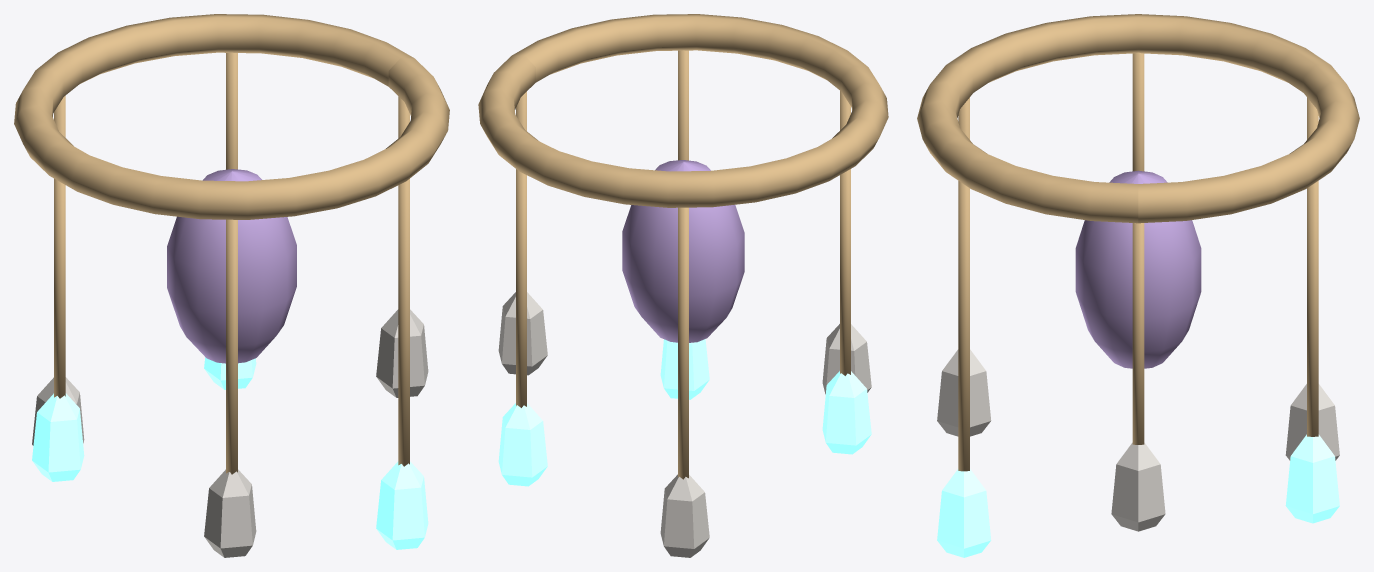
The model's file is orn_choral_ring_chimes.glb.
3 views of the same model, side by side, from view 1: azimuth 30°, elevation 25°; view 2: azimuth 150°, elevation 25°; view 3: azimuth 270°, elevation 25° (orthographic). The views are drawn at different scales.
Visible parts, largest first — view 1: ORN_choral_ring_chimes_crown, ORN_choral_ring_chimes_center_crystal, ORN_choral_ring_chimes_chime_5, ORN_choral_ring_chimes_chime_4, ORN_choral_ring_chimes_chime_3, ORN_choral_ring_chimes_hanger_5, ORN_choral_ring_chimes_hanger_4, ORN_choral_ring_chimes_chime_0, ORN_choral_ring_chimes_hanger_3, ORN_choral_ring_chimes_hanger_1, ORN_choral_ring_chimes_chime_1, ORN_choral_ring_chimes_chime_2; view 2: ORN_choral_ring_chimes_crown, ORN_choral_ring_chimes_center_crystal, ORN_choral_ring_chimes_chime_1, ORN_choral_ring_chimes_chime_3, ORN_choral_ring_chimes_chime_2, ORN_choral_ring_chimes_hanger_2, ORN_choral_ring_chimes_hanger_1, ORN_choral_ring_chimes_chime_0, ORN_choral_ring_chimes_hanger_3, ORN_choral_ring_chimes_chime_5, ORN_choral_ring_chimes_chime_4, ORN_choral_ring_chimes_hanger_5; view 3: ORN_choral_ring_chimes_crown, ORN_choral_ring_chimes_center_crystal, ORN_choral_ring_chimes_chime_0, ORN_choral_ring_chimes_chime_1, ORN_choral_ring_chimes_chime_5, ORN_choral_ring_chimes_hanger_5, ORN_choral_ring_chimes_hanger_1, ORN_choral_ring_chimes_hanger_0, ORN_choral_ring_chimes_chime_4, ORN_choral_ring_chimes_chime_2, ORN_choral_ring_chimes_hanger_3.
Boxes of the visible parts, <box> form: ORN_choral_ring_chimes_crown: <box>14,14,449,219</box>; ORN_choral_ring_chimes_center_crystal: <box>167,169,296,363</box>; ORN_choral_ring_chimes_chime_5: <box>376,461,428,549</box>; ORN_choral_ring_chimes_chime_4: <box>204,469,256,557</box>; ORN_choral_ring_chimes_chime_3: <box>32,393,84,481</box>; ORN_choral_ring_chimes_hanger_5: <box>398,179,409,466</box>; ORN_choral_ring_chimes_hanger_4: <box>226,219,237,474</box>; ORN_choral_ring_chimes_chime_0: <box>376,309,428,397</box>; ORN_choral_ring_chimes_hanger_3: <box>54,178,65,398</box>; ORN_choral_ring_chimes_hanger_1: <box>226,52,237,169</box>; ORN_choral_ring_chimes_chime_1: <box>204,357,256,389</box>; ORN_choral_ring_chimes_chime_2: <box>32,377,84,445</box>; ORN_choral_ring_chimes_crown: <box>478,14,888,207</box>; ORN_choral_ring_chimes_center_crystal: <box>622,160,744,342</box>; ORN_choral_ring_chimes_chime_1: <box>498,403,547,486</box>; ORN_choral_ring_chimes_chime_3: <box>822,371,871,454</box>; ORN_choral_ring_chimes_chime_2: <box>660,474,709,557</box>; ORN_choral_ring_chimes_hanger_2: <box>678,207,688,479</box>; ORN_choral_ring_chimes_hanger_1: <box>516,169,526,407</box>; ORN_choral_ring_chimes_chime_0: <box>498,292,547,375</box>; ORN_choral_ring_chimes_hanger_3: <box>840,169,850,375</box>; ORN_choral_ring_chimes_chime_5: <box>660,339,709,399</box>; ORN_choral_ring_chimes_chime_4: <box>822,324,871,394</box>; ORN_choral_ring_chimes_hanger_5: <box>678,50,688,160</box>; ORN_choral_ring_chimes_crown: <box>917,14,1359,223</box>; ORN_choral_ring_chimes_center_crystal: <box>1075,170,1201,368</box>; ORN_choral_ring_chimes_chime_0: <box>1111,442,1165,531</box>; ORN_choral_ring_chimes_chime_1: <box>1285,434,1339,523</box>; ORN_choral_ring_chimes_chime_5: <box>937,469,991,557</box>; ORN_choral_ring_chimes_hanger_5: <box>958,181,969,471</box>; ORN_choral_ring_chimes_hanger_1: <box>1307,181,1318,436</box>; ORN_choral_ring_chimes_hanger_0: <box>1132,223,1144,444</box>; ORN_choral_ring_chimes_chime_4: <box>937,349,991,436</box>; ORN_choral_ring_chimes_chime_2: <box>1285,384,1339,460</box>; ORN_choral_ring_chimes_hanger_3: <box>1132,52,1144,171</box>.
Size of the model in its own units: 1.2 by 1.18 by 1.17.
